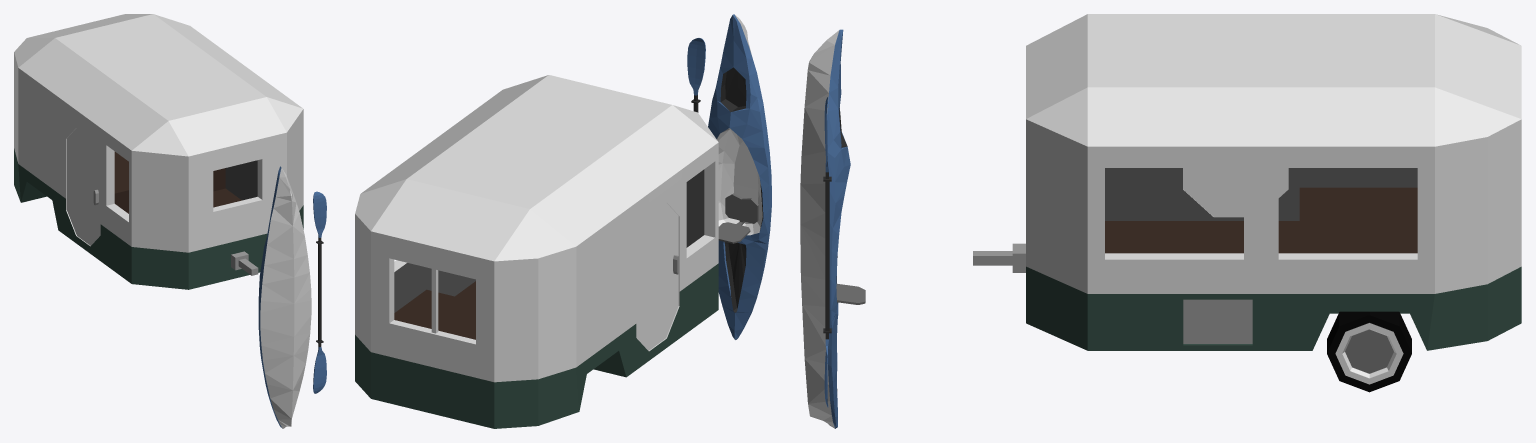
File: Camper.fbx
The picture shows the model from 3 angles, left to right: view 1: azimuth 30°, elevation 25°; view 2: azimuth 150°, elevation 25°; view 3: azimuth 270°, elevation 25°; orthographic projection. The views are drawn at different scales.
Visible parts, largest first — view 1: Trailer, Kayak, Door, Oars; view 2: Trailer, Kayak, Door, Oars; view 3: Trailer, Kayak, Wheel, Door, Oars.
Boxes of the visible parts, box(x1,y1,x2,y2) form: Trailer: box(14, 14, 303, 289); Kayak: box(258, 166, 311, 428); Door: box(66, 128, 100, 245); Oars: box(313, 191, 326, 393); Trailer: box(355, 75, 718, 428); Kayak: box(708, 14, 771, 339); Door: box(636, 203, 679, 350); Oars: box(687, 38, 705, 112); Trailer: box(973, 14, 1521, 350); Kayak: box(800, 29, 865, 428); Wheel: box(1327, 311, 1411, 392); Door: box(1183, 168, 1288, 217); Oars: box(823, 97, 831, 407).
Size of the model in its own units: 355 by 508 by 831.
